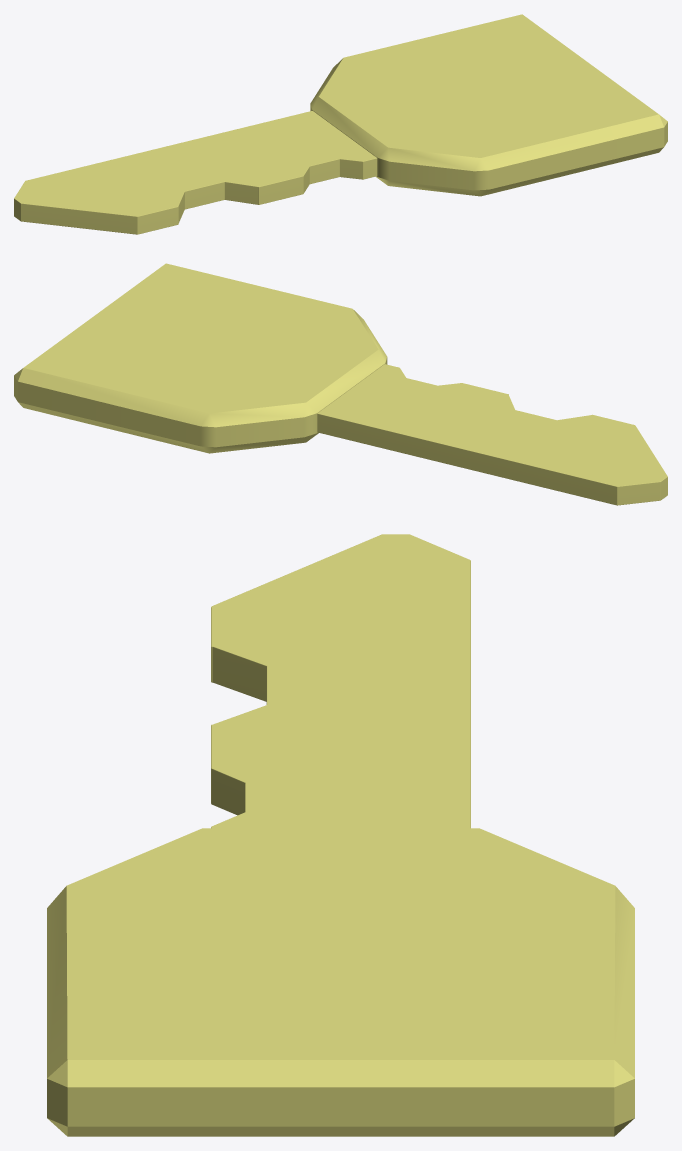
Rendered from Key.fbx.
The picture shows the model from 3 angles, top to bottom: view 1: azimuth 30°, elevation 25°; view 2: azimuth 150°, elevation 25°; view 3: azimuth 270°, elevation 25°; orthographic projection. The views are drawn at different scales.
Parts seen in each view (by area): view 1: pCube7; view 2: pCube7; view 3: pCube7.
Boxes of the visible parts, bbox=[...] form: pCube7: bbox=[14, 14, 667, 234]; pCube7: bbox=[14, 263, 667, 505]; pCube7: bbox=[47, 534, 634, 1136].
Size of the model in its own units: 2.23 by 0.1439 by 1.
